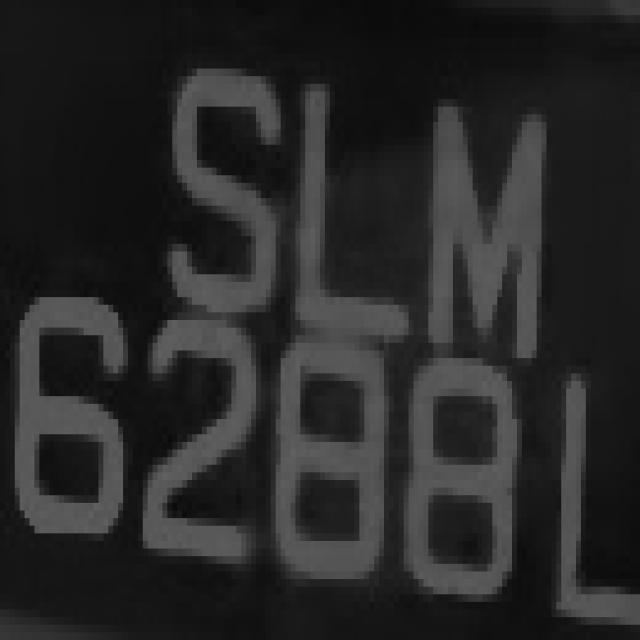2: (133, 282, 246, 571)
6: (10, 236, 138, 564)
8: (374, 335, 517, 610), (266, 312, 399, 594)
L: (286, 46, 408, 335), (552, 373, 626, 617)
M: (418, 76, 576, 389)
S: (147, 31, 280, 336)
